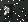person: (6, 5, 17, 19)
